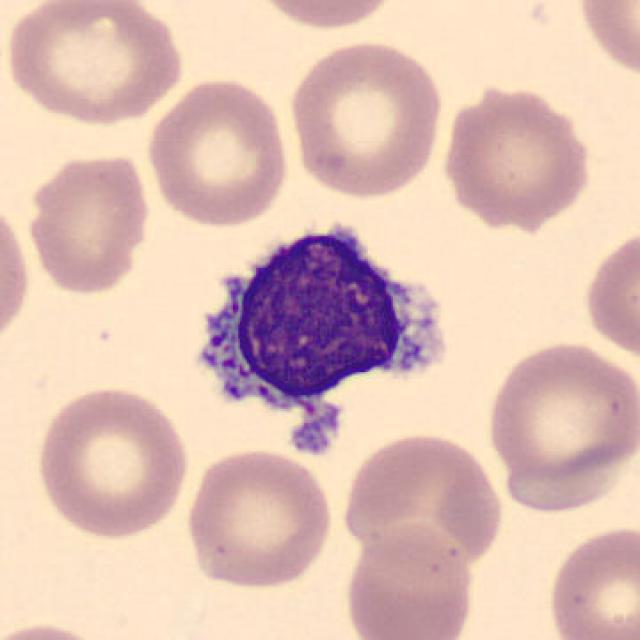Lymphocyte: (178, 207, 464, 466)
RBC: (284, 35, 448, 201), (30, 381, 192, 541), (338, 427, 508, 578), (482, 335, 638, 495), (0, 0, 190, 129), (438, 80, 598, 230), (142, 72, 292, 229), (181, 444, 338, 592), (23, 146, 155, 298), (340, 522, 478, 640), (544, 522, 640, 640), (496, 442, 635, 515), (580, 222, 638, 365), (572, 0, 640, 85), (242, 0, 409, 33), (0, 192, 34, 353), (2, 617, 121, 640)
